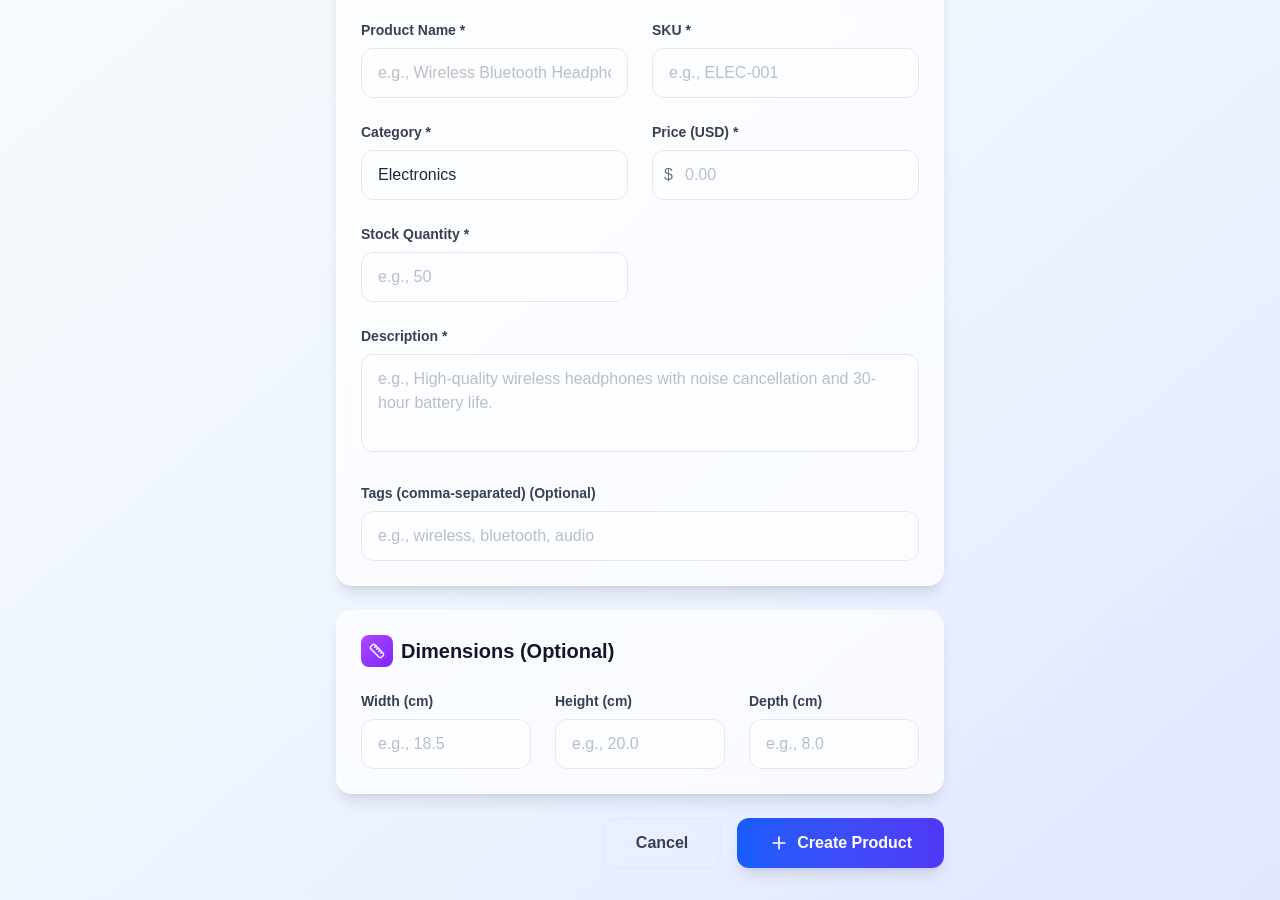
NewProductPage - Simple Tests › should clear validation errors when typing in fields
(page scrolled)
Note: Trigger validation errors first
Click the button "Create Product".
click(841, 843)  # box x1=737 y1=818 x2=944 y2=868
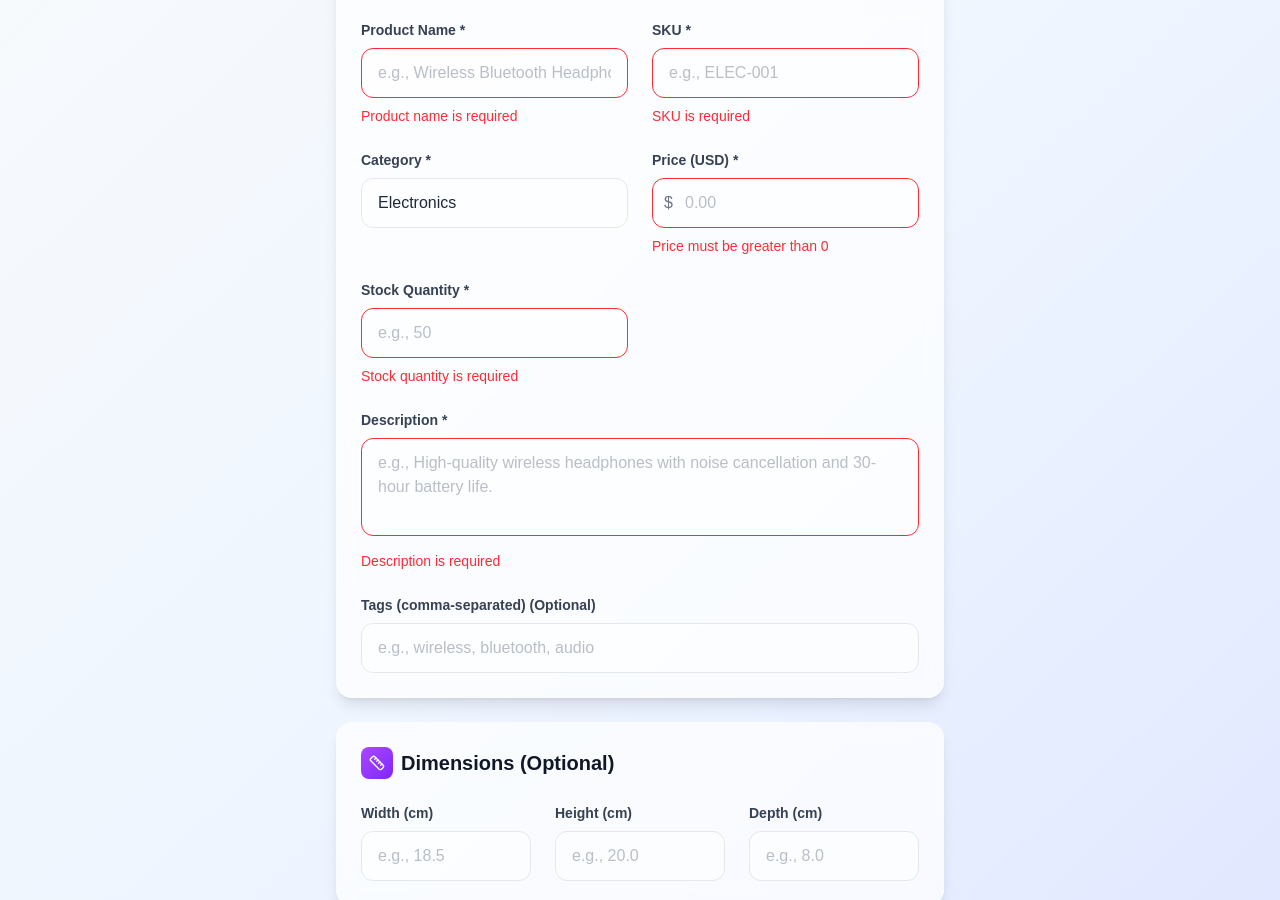
Expected: the text "Product name is required" is shown, x1=361 y1=108 x2=517 y2=124
Note: Type in name field using placeholder
Type "T" into the field with placeholder "e.g., Wireless Bluetooth Headphones".
click(494, 73); type("T")  # box x1=361 y1=48 x2=628 y2=98
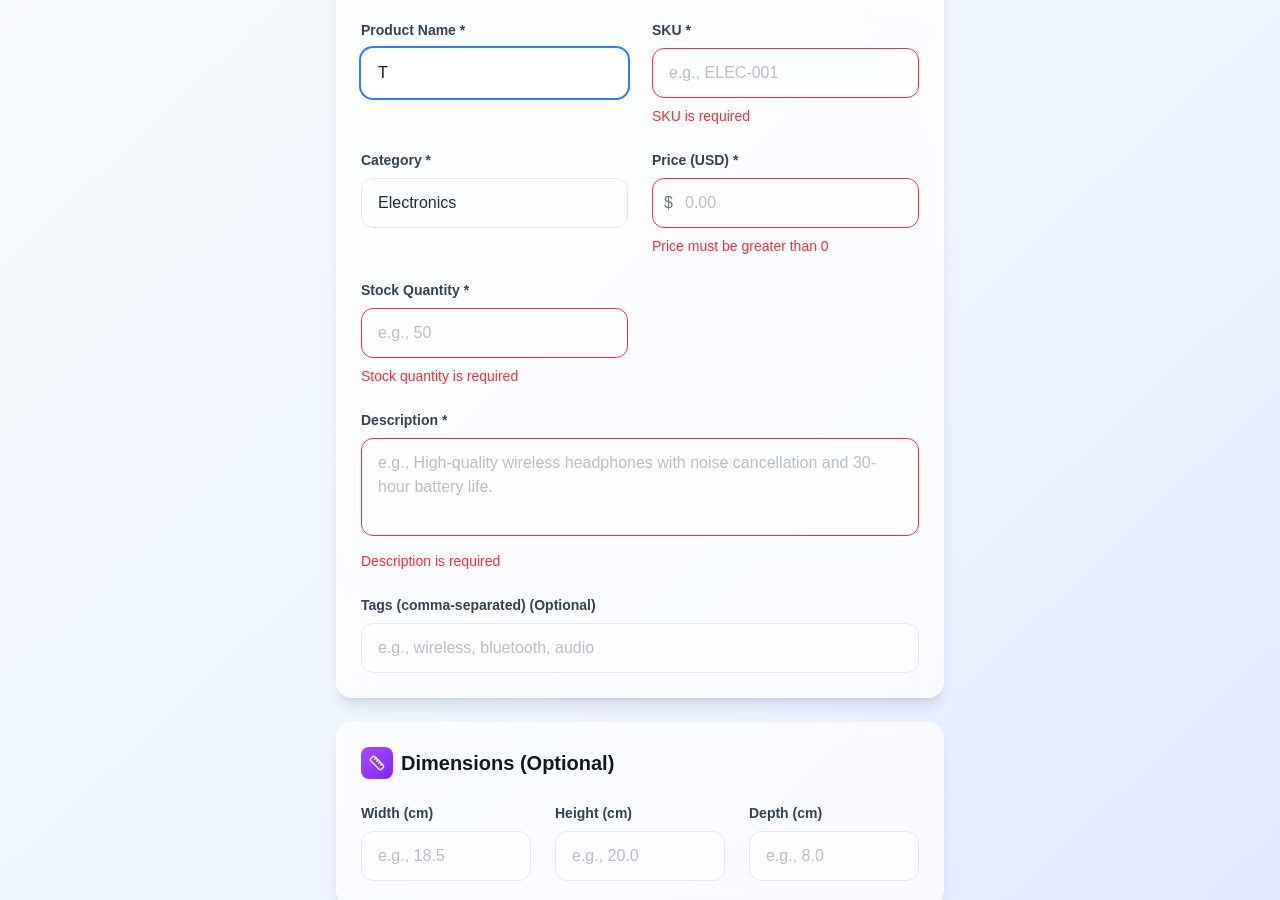
Expected: the text "Product name is required" is gone
